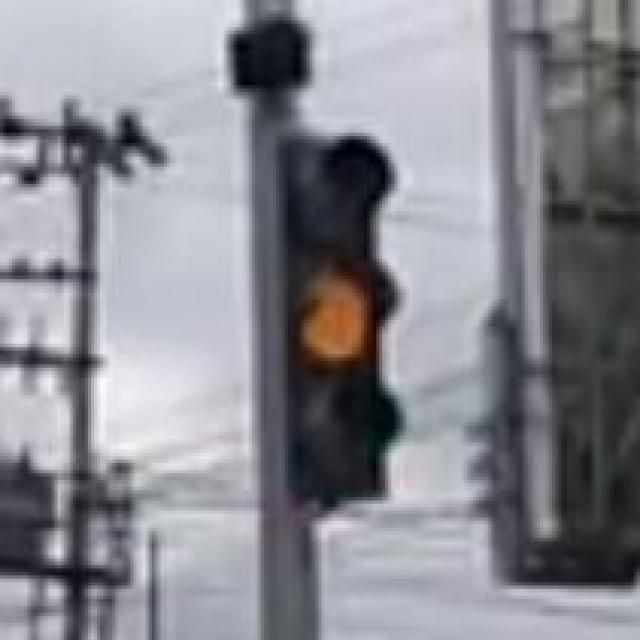yellow_light: (279, 133, 401, 504)
